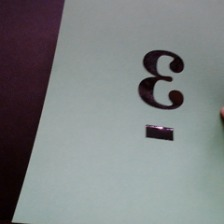green3: (134, 46, 190, 149)
